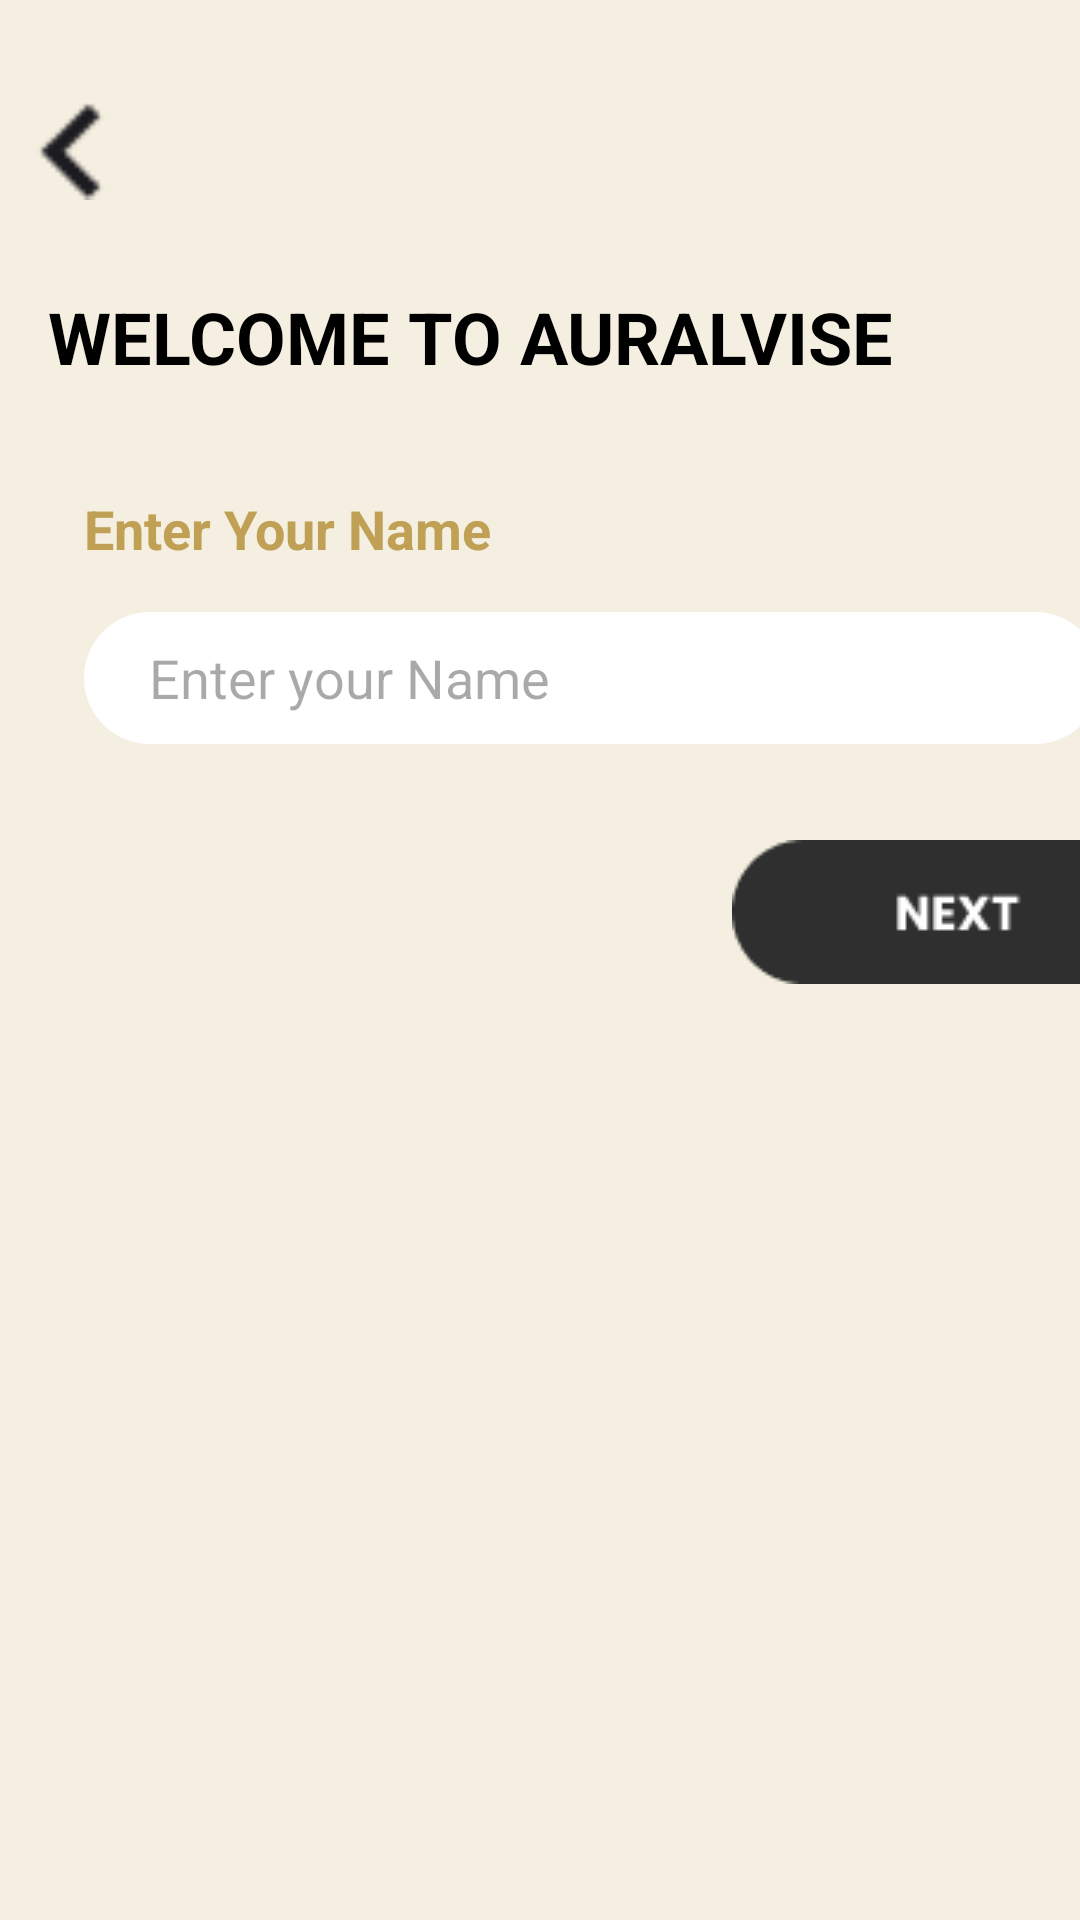

Icon click points for this 1080×1920 phone screenshot, format [x,y]:
backarrow: [70,152]
